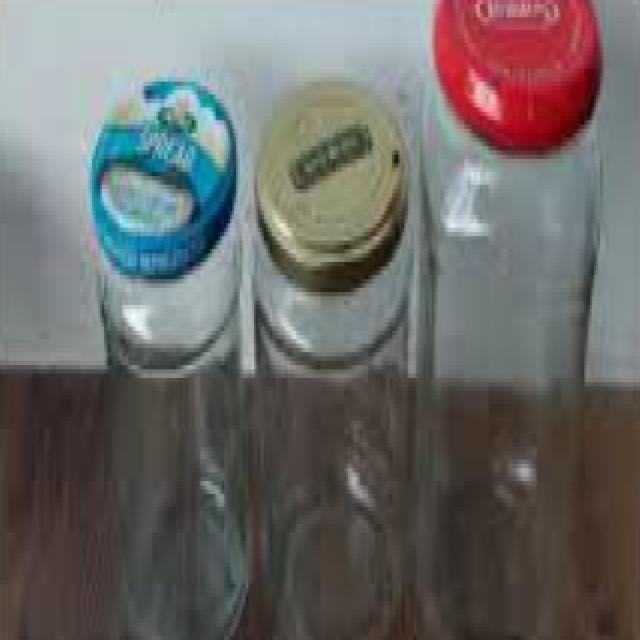ToplesKaca: (432, 0, 588, 640), (90, 76, 251, 640), (260, 73, 413, 640)
